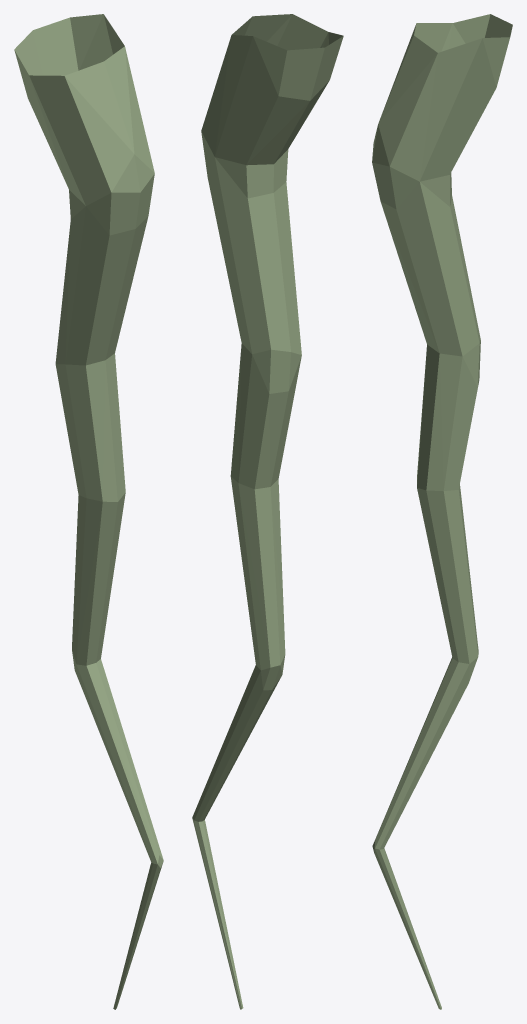
Rendered from EA_Swamp_Liana_04b.glb.
3 renders of one model, left to right at view 1: azimuth 30°, elevation 25°; view 2: azimuth 210°, elevation 25°; view 3: azimuth 270°, elevation 25°, orthographic.
Parts seen in each view (by area): view 1: EA_Swamp_Liana_04b; view 2: EA_Swamp_Liana_04b; view 3: EA_Swamp_Liana_04b.
Boxes of the visible parts, box(x1,y1,x2,y2) form: EA_Swamp_Liana_04b: box(14, 14, 163, 1009); EA_Swamp_Liana_04b: box(192, 14, 343, 1009); EA_Swamp_Liana_04b: box(372, 14, 512, 1009).
Bounding box in the file's own units: 0.1561 × 1.52 × 0.1988.
1 material, 1 textured.
